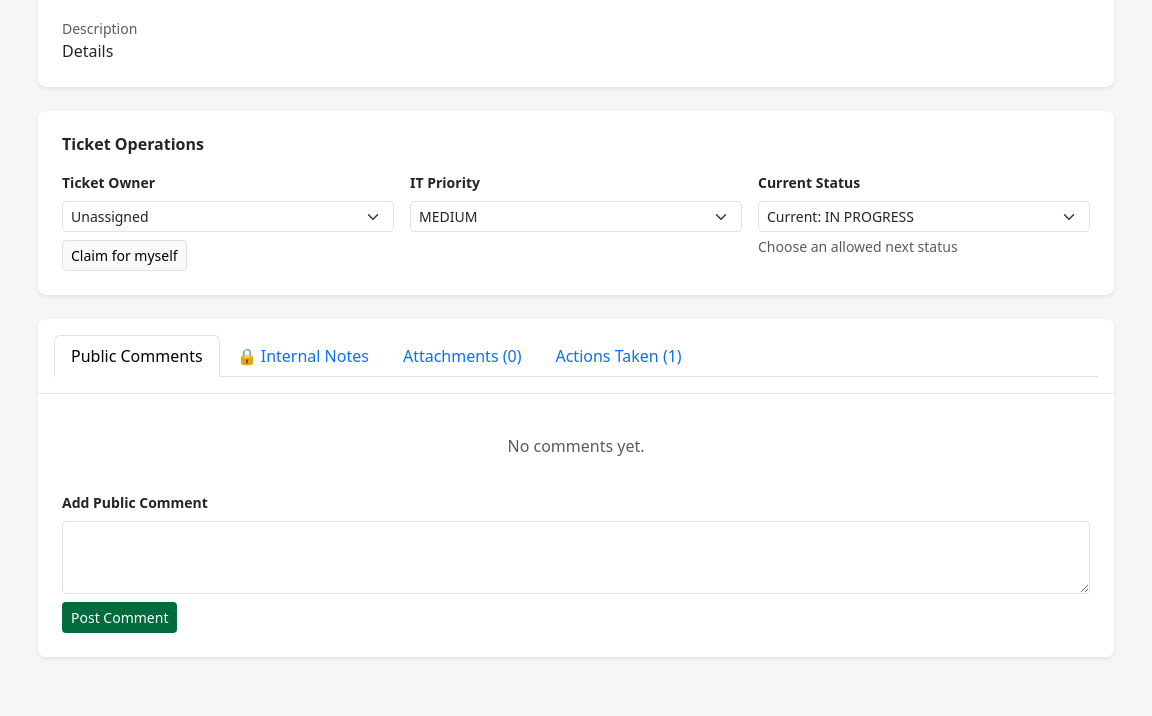
Test case: Actions Taken staff UI › UI-01: renders the tab count, action list, and Add button
(page scrolled)
Click the tab "Actions Taken (1)" at (619, 356), box x1=538 y1=335 x2=699 y2=377
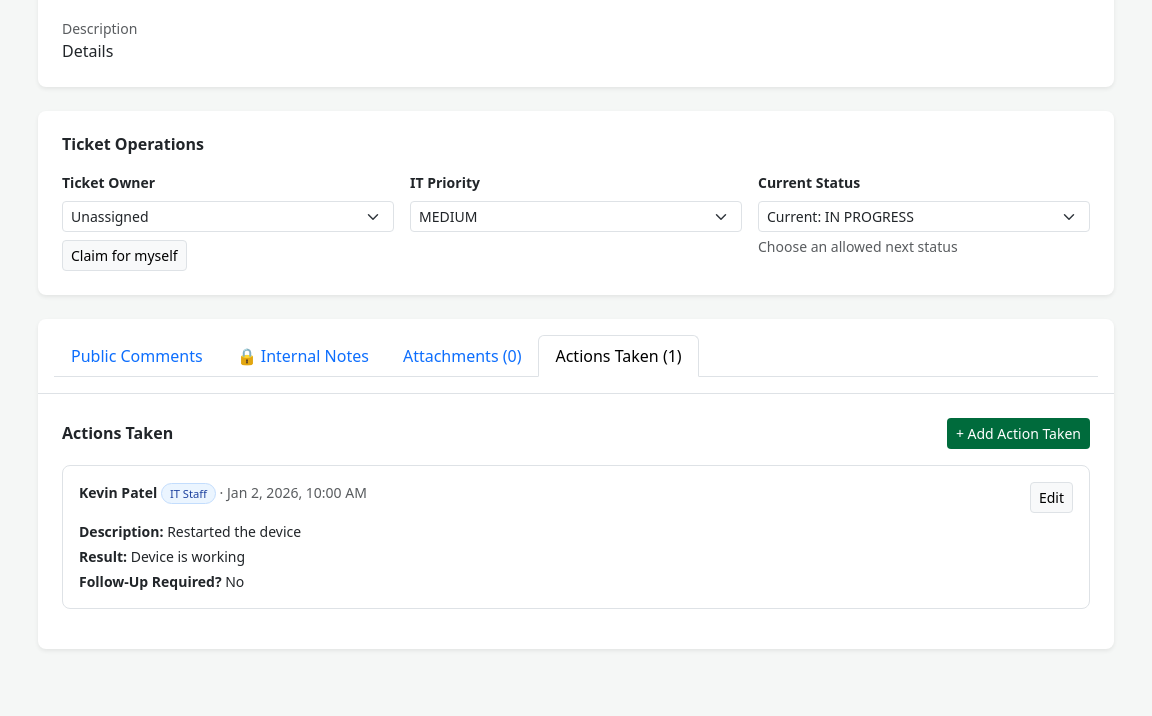
Expected: the text "Restarted the device" is shown, x1=167 y1=522 x2=301 y2=541
Expected: the button "+ Add Action Taken" is shown, x1=947 y1=418 x2=1090 y2=449
Expected: the button "Edit" is shown, x1=1030 y1=482 x2=1073 y2=513
